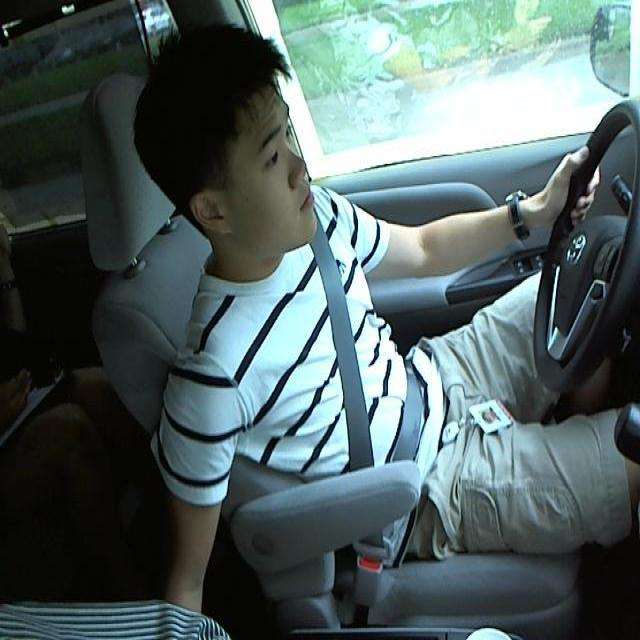seatbelt: (308, 251, 420, 565)
